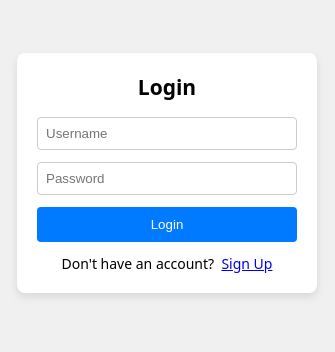
Test case: User Authentication › should display error for incorrect password
Type "user123" into the field with test id "username" at [167, 134], box [37,117,297,150]
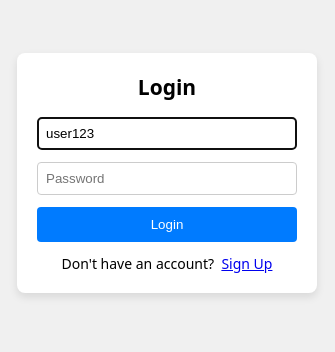
Type "WrongPass123" into the password field with test id "password" at [167, 179], box [37,162,297,195]
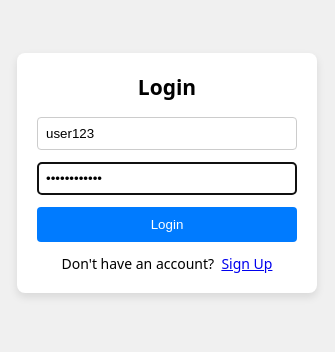
Click the button with test id "login-button" at [167, 225], box [37,207,297,242]
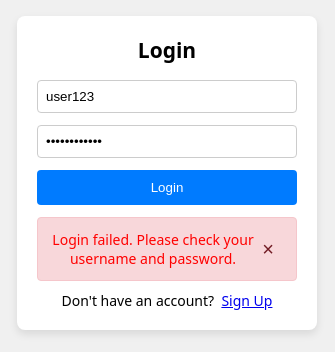
Now the text with test id "error-message" reads "Login failed. Please check your username and password.", box [52,230,253,268]
Click the button with class "close-button" at [268, 250], box [252,228,284,271]
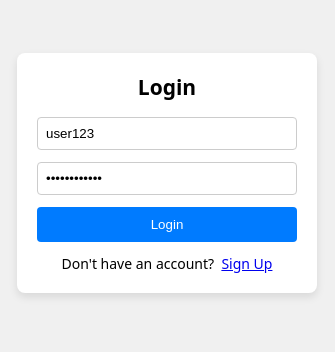
Now the element with class "error-message" is gone
